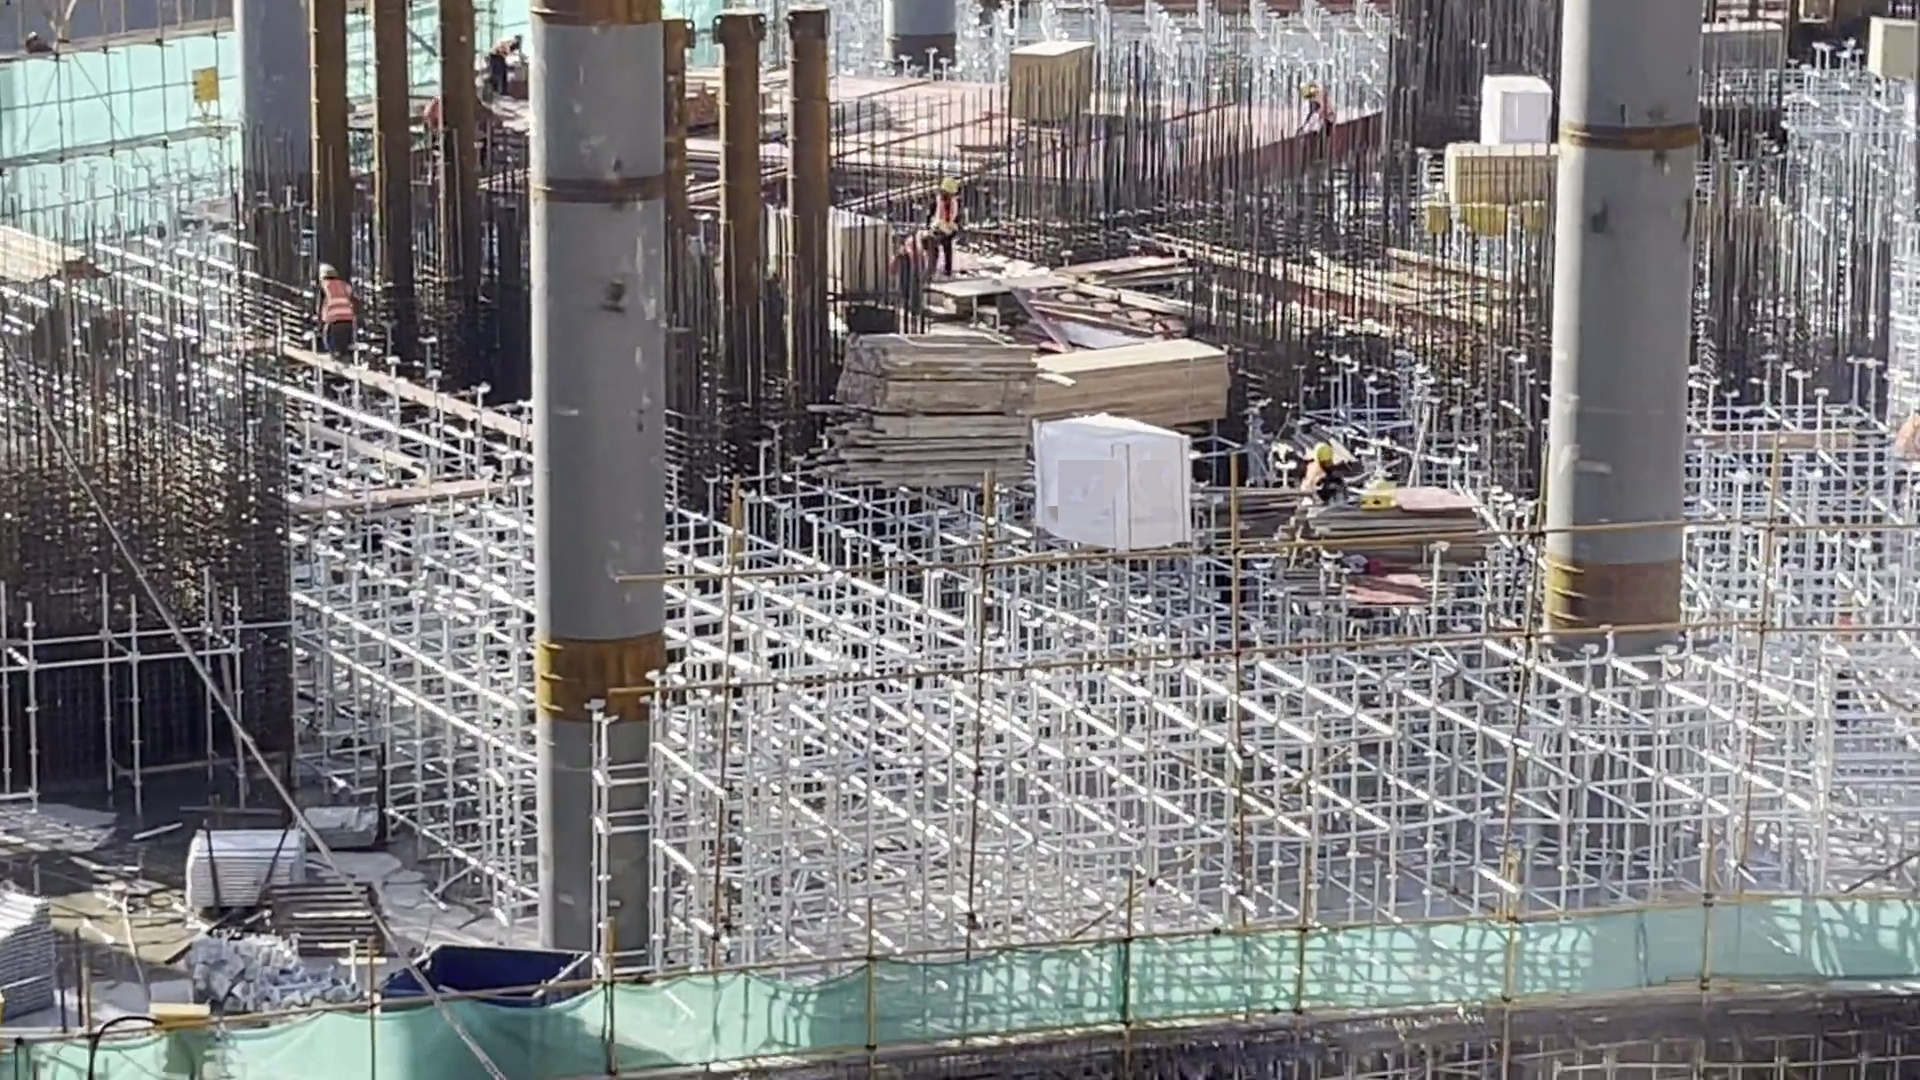helmet: (934, 217, 952, 241), (509, 27, 529, 46), (1315, 445, 1330, 468), (944, 176, 962, 194), (313, 263, 339, 273), (1299, 84, 1320, 94)
person: (1298, 428, 1356, 510), (488, 25, 531, 111), (314, 266, 353, 356), (909, 218, 948, 305), (934, 171, 966, 265), (1286, 80, 1344, 133), (423, 83, 439, 176), (1899, 403, 1920, 457)
vest: (1301, 466, 1343, 501), (896, 234, 940, 261), (323, 282, 353, 322), (418, 95, 441, 134), (488, 35, 515, 63), (938, 195, 958, 233), (1316, 94, 1341, 122)
